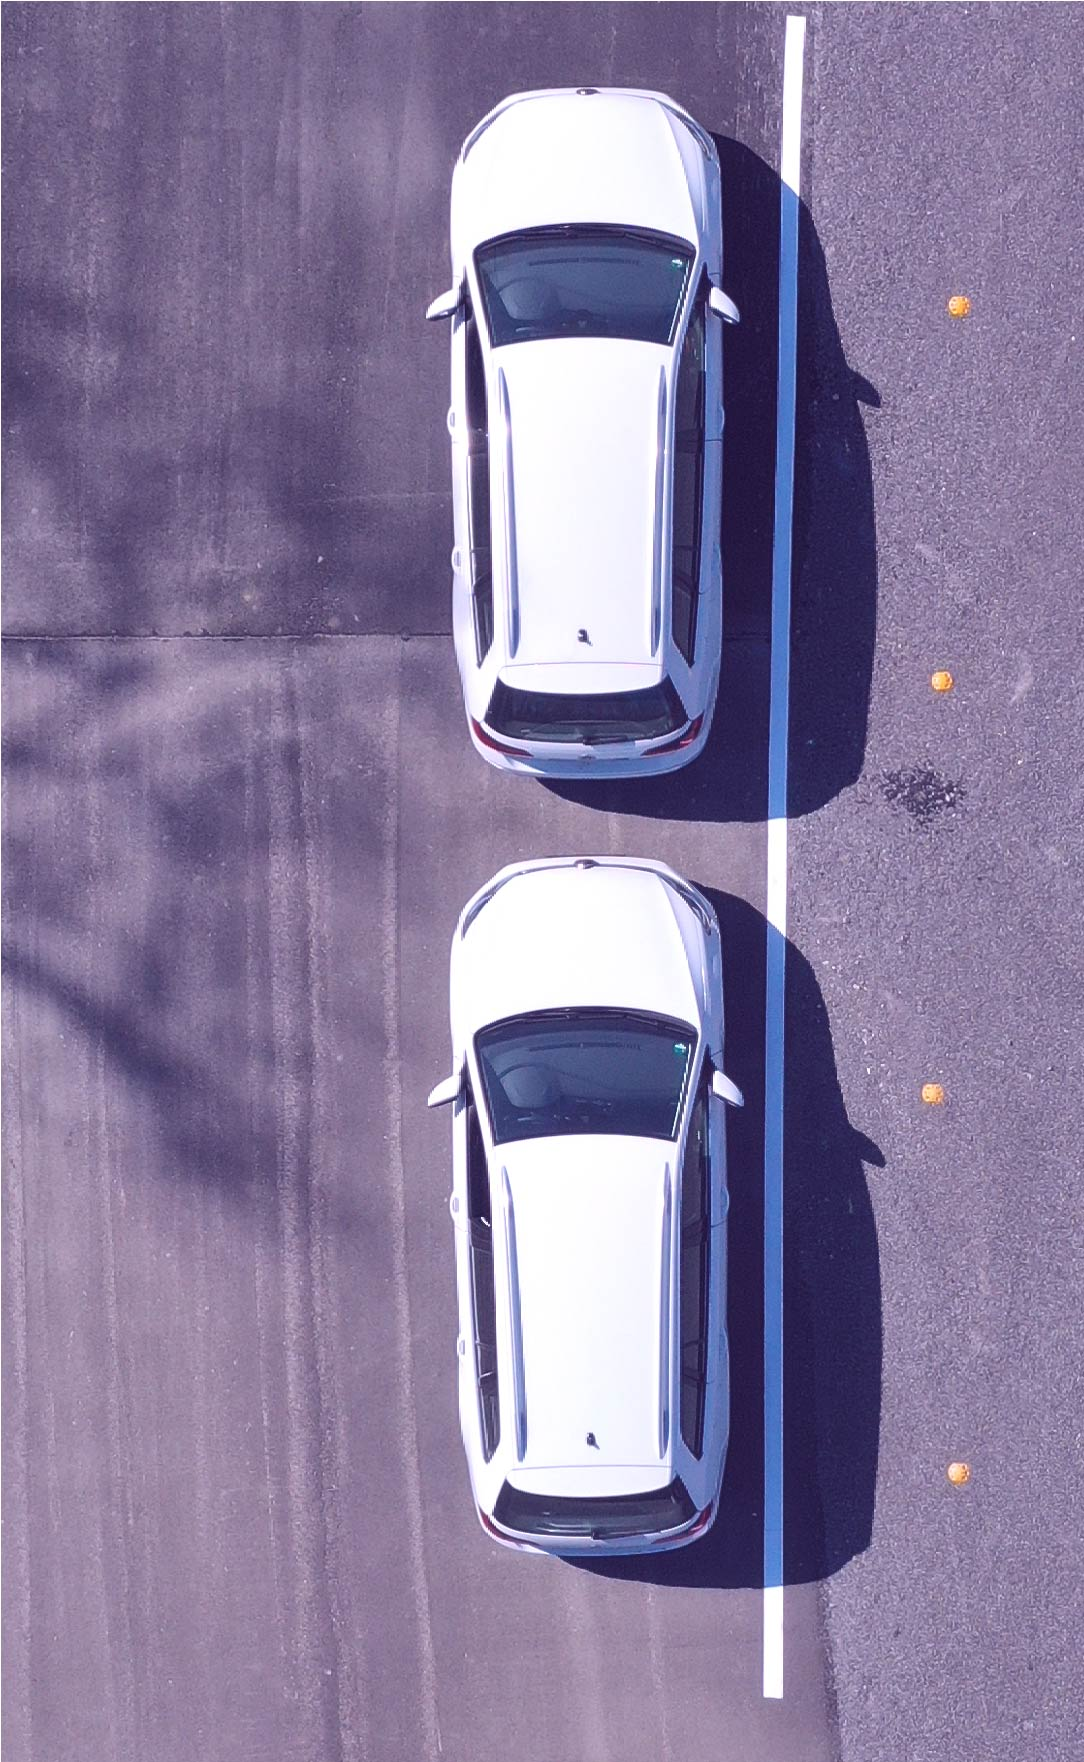Car: (436, 858, 755, 1585), (444, 74, 742, 800)
LaneMark: (758, 8, 818, 1700)
